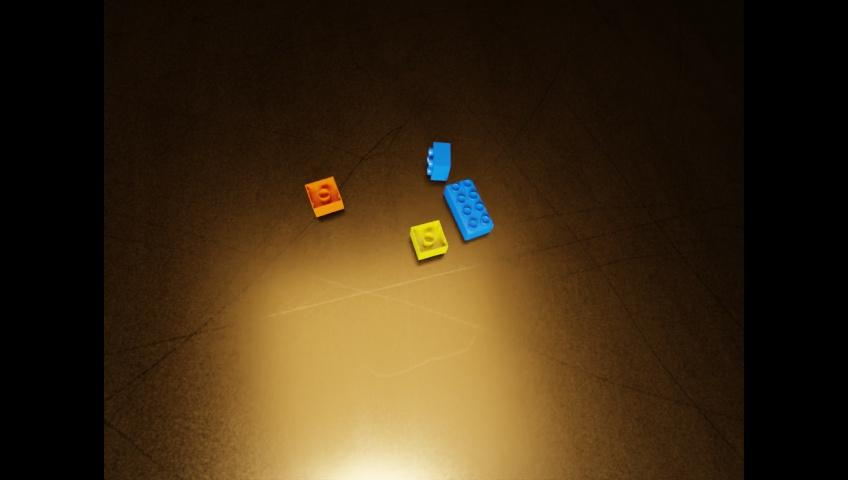2x2_blue: (427, 142, 449, 180)
2x2_orange: (305, 176, 342, 216)
2x2_yellow: (410, 221, 447, 260)
4x2_blue: (444, 178, 492, 240)
